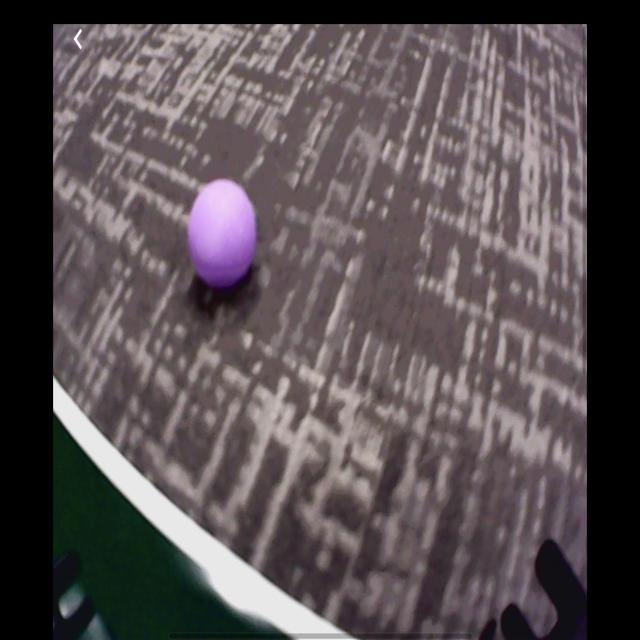ball: (189, 181, 257, 289)
